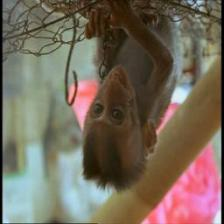monkey: (73, 59, 167, 205)
